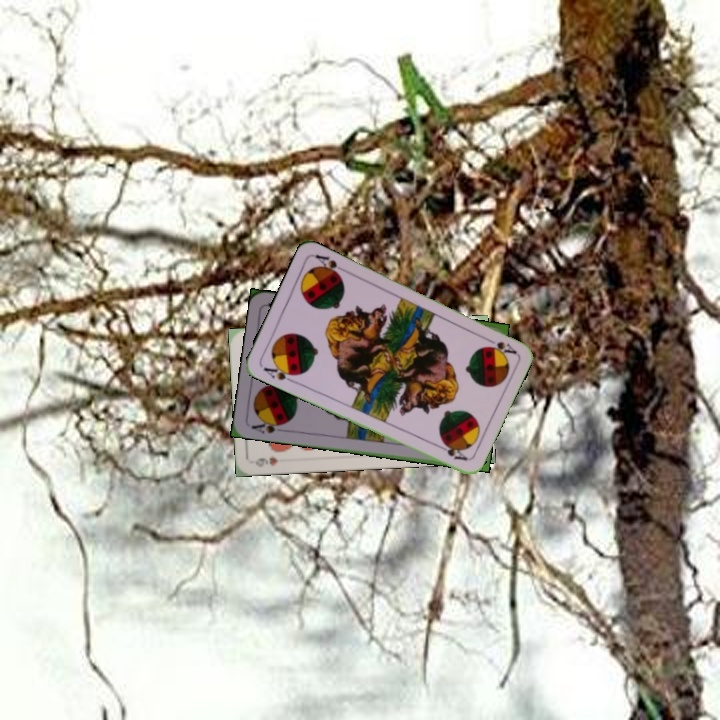H9: (252, 452, 281, 469)
SA: (259, 360, 300, 385), (480, 334, 519, 357), (247, 415, 288, 436)
